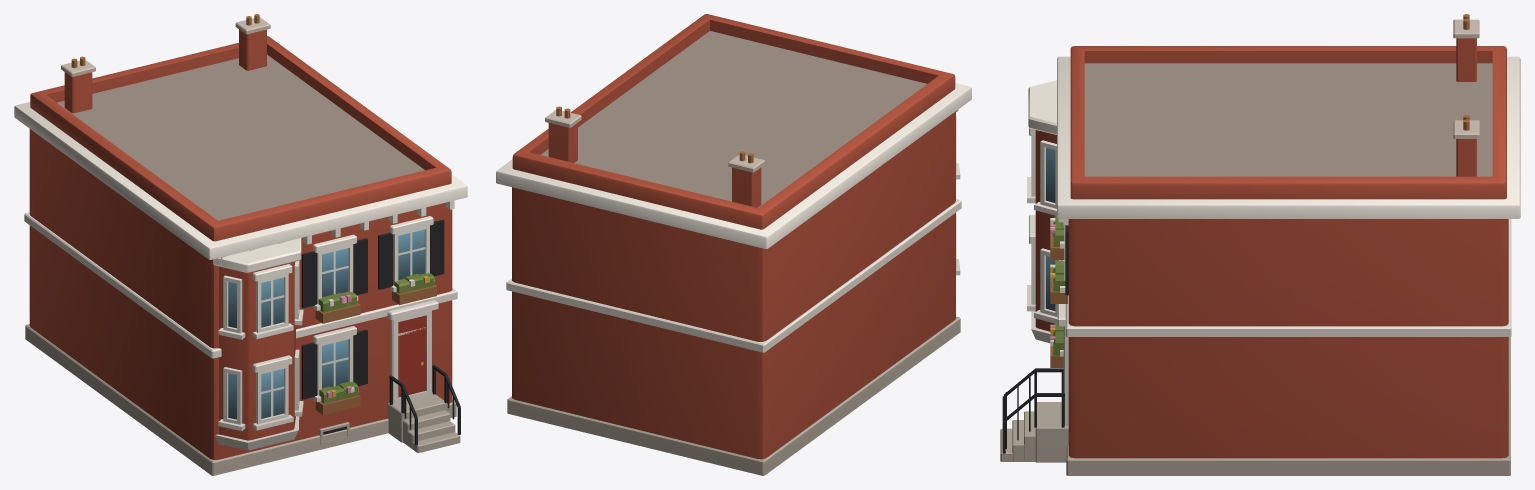
Rendered from beacon_n12.glb.
3 renders of one model, left to right at view 1: azimuth 30°, elevation 25°; view 2: azimuth 150°, elevation 25°; view 3: azimuth 270°, elevation 25°, orthographic. The views are drawn at different scales.
Parts seen in each view (by area): view 1: beacon_n12; view 2: beacon_n12; view 3: beacon_n12.
Part boxes in pixels (left/top/right/bottom): beacon_n12: left=14, top=14, right=467, bottom=475; beacon_n12: left=496, top=14, right=971, bottom=475; beacon_n12: left=1000, top=14, right=1520, bottom=475.
Bounding box in the file's own units: 9.64 × 10.14 × 14.18.
Materials: 1 (1 with a texture image).
